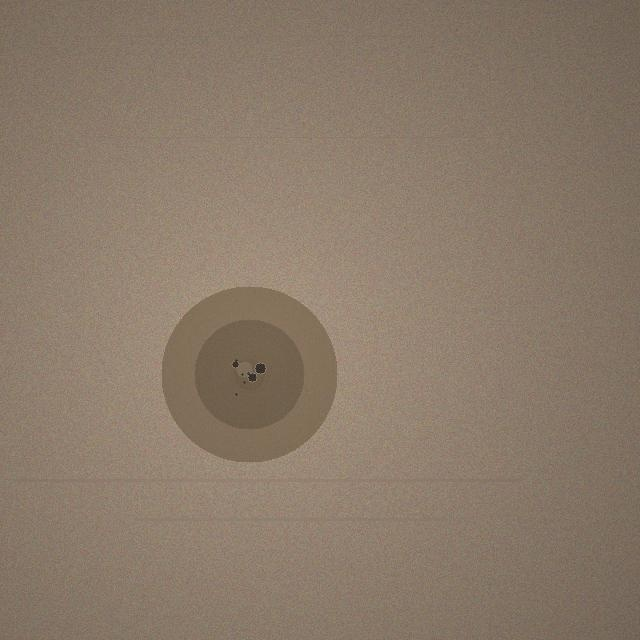shrinkage: (161, 286, 337, 462)
